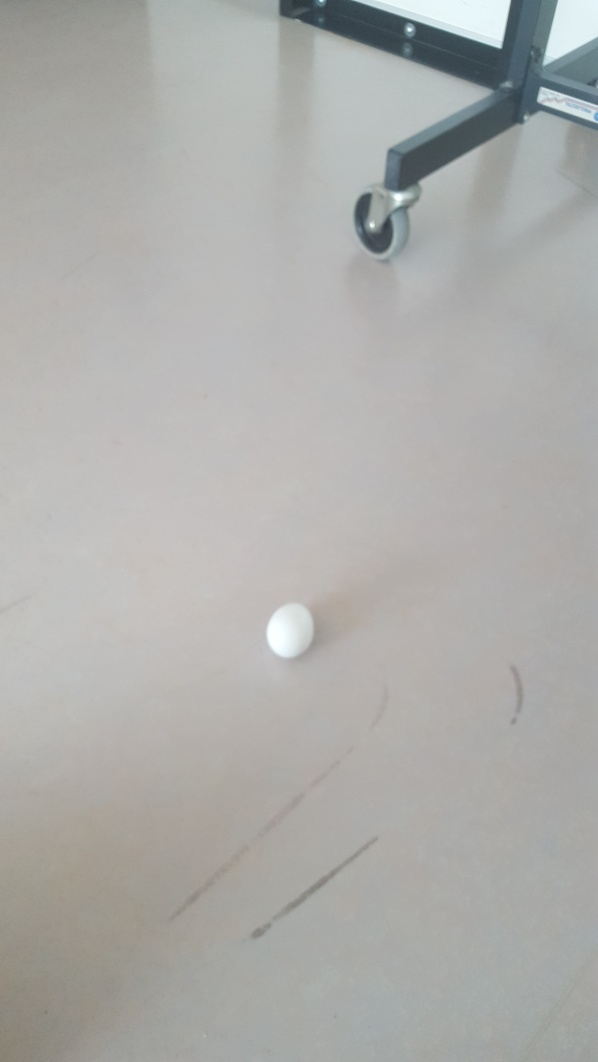egg: (265, 605, 312, 660)
